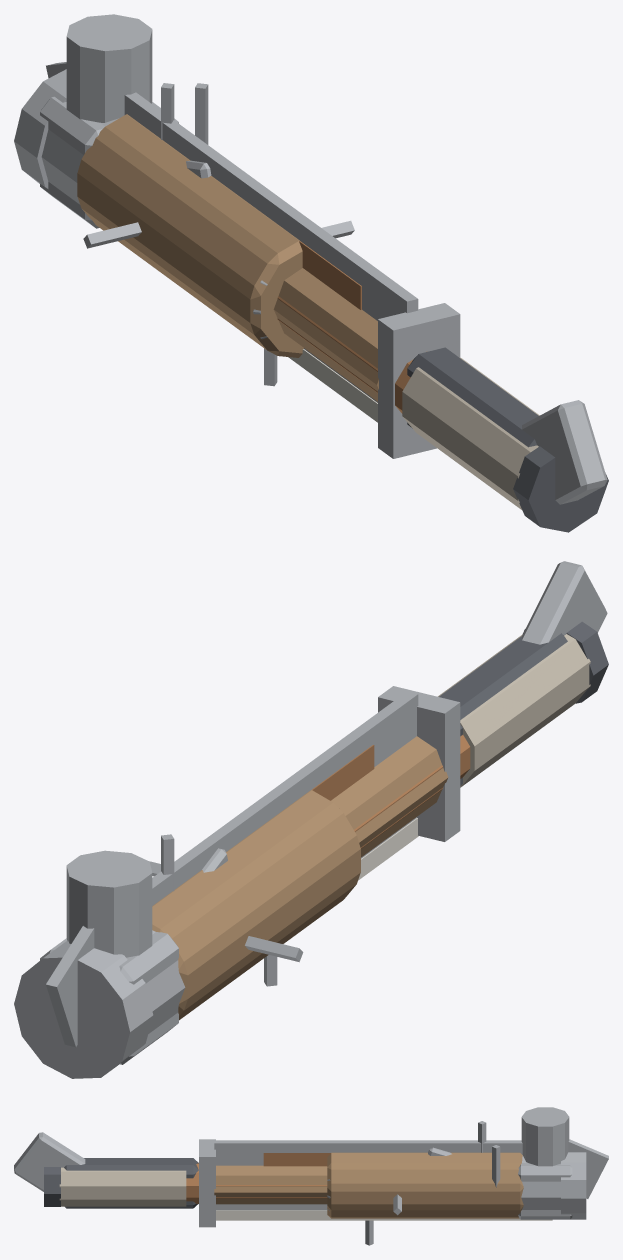
File: Weapons.fbx
The picture shows the model from 3 angles, top to bottom: view 1: azimuth 30°, elevation 25°; view 2: azimuth 150°, elevation 25°; view 3: azimuth 270°, elevation 25°; orthographic projection. The views are drawn at different scales.
Visible parts, largest first — view 1: WeaponClub_Barrel_Wood, WeaponMachete_Blade_Metal, WeaponPipe_Stub_Metal, WeaponPipe_Tape_Cloth, WeaponClub_Neck_Wood, WeaponMachete_Guard_Metal, WeaponCrowbar_Hook_Metal, WeaponMachete_Handle_Dark, WeaponClub_Knob_Dark, WeaponBat_End_Metal, WeaponPipe_Elbow_Metal, WeaponBat_Barrel_Metal (+5 smaller); view 2: WeaponClub_Barrel_Wood, WeaponBat_End_Metal, WeaponMachete_Blade_Metal, WeaponPipe_Tape_Cloth, WeaponPipe_Stub_Metal, WeaponClub_Neck_Wood, WeaponMachete_Guard_Metal, WeaponCrowbar_Hook_Metal, WeaponMachete_Handle_Dark, WeaponMachete_Tip_Metal, WeaponPipe_Elbow_Metal, WeaponBat_Barrel_Metal (+5 smaller); view 3: WeaponClub_Barrel_Wood, WeaponMachete_Blade_Metal, WeaponPipe_Tape_Cloth, WeaponClub_Neck_Wood, WeaponPipe_Stub_Metal, WeaponMachete_Handle_Dark, WeaponCrowbar_Hook_Metal, WeaponMachete_Edge_White, WeaponBat_End_Metal, WeaponMachete_Guard_Metal, WeaponPipe_Elbow_Metal, WeaponBat_Barrel_Metal (+7 smaller).
Part boxes in pixels (<box>): WeaponClub_Barrel_Wood: <box>77,114,303,357</box>; WeaponMachete_Blade_Metal: <box>124,92,418,402</box>; WeaponPipe_Stub_Metal: <box>66,14,152,122</box>; WeaponPipe_Tape_Cloth: <box>402,357,539,509</box>; WeaponClub_Neck_Wood: <box>273,268,378,401</box>; WeaponMachete_Guard_Metal: <box>378,303,460,458</box>; WeaponCrowbar_Hook_Metal: <box>522,400,607,504</box>; WeaponMachete_Handle_Dark: <box>407,347,538,447</box>; WeaponClub_Knob_Dark: <box>513,446,608,532</box>; WeaponBat_End_Metal: <box>14,69,66,188</box>; WeaponPipe_Elbow_Metal: <box>40,96,178,228</box>; WeaponBat_Barrel_Metal: <box>41,118,267,339</box>; WeaponClub_Barrel_Wood: <box>152,790,360,1020</box>; WeaponBat_End_Metal: <box>14,941,153,1078</box>; WeaponMachete_Blade_Metal: <box>152,691,418,905</box>; WeaponPipe_Tape_Cloth: <box>438,634,590,787</box>; WeaponPipe_Stub_Metal: <box>66,850,152,957</box>; WeaponClub_Neck_Wood: <box>331,736,448,857</box>; WeaponMachete_Guard_Metal: <box>378,686,460,841</box>; WeaponCrowbar_Hook_Metal: <box>522,561,607,644</box>; WeaponMachete_Handle_Dark: <box>439,633,567,785</box>; WeaponMachete_Tip_Metal: <box>46,926,94,1047</box>; WeaponPipe_Elbow_Metal: <box>40,932,178,1064</box>; WeaponBat_Barrel_Metal: <box>146,930,185,1033</box>; WeaponClub_Barrel_Wood: <box>327,1152,523,1218</box>; WeaponMachete_Blade_Metal: <box>214,1140,522,1210</box>; WeaponPipe_Tape_Cloth: <box>59,1167,186,1206</box>; WeaponClub_Neck_Wood: <box>214,1165,327,1204</box>; WeaponPipe_Stub_Metal: <box>521,1107,569,1166</box>; WeaponMachete_Handle_Dark: <box>64,1158,198,1208</box>; WeaponCrowbar_Hook_Metal: <box>14,1132,85,1191</box>; WeaponMachete_Edge_White: <box>216,1210,552,1220</box>; WeaponBat_End_Metal: <box>561,1152,586,1219</box>; WeaponMachete_Guard_Metal: <box>199,1139,215,1227</box>; WeaponPipe_Elbow_Metal: <box>518,1163,572,1219</box>; WeaponBat_Barrel_Metal: <box>327,1155,560,1210</box>.
Size of the model in its own units: 0.95 by 0.995 by 4.22.
